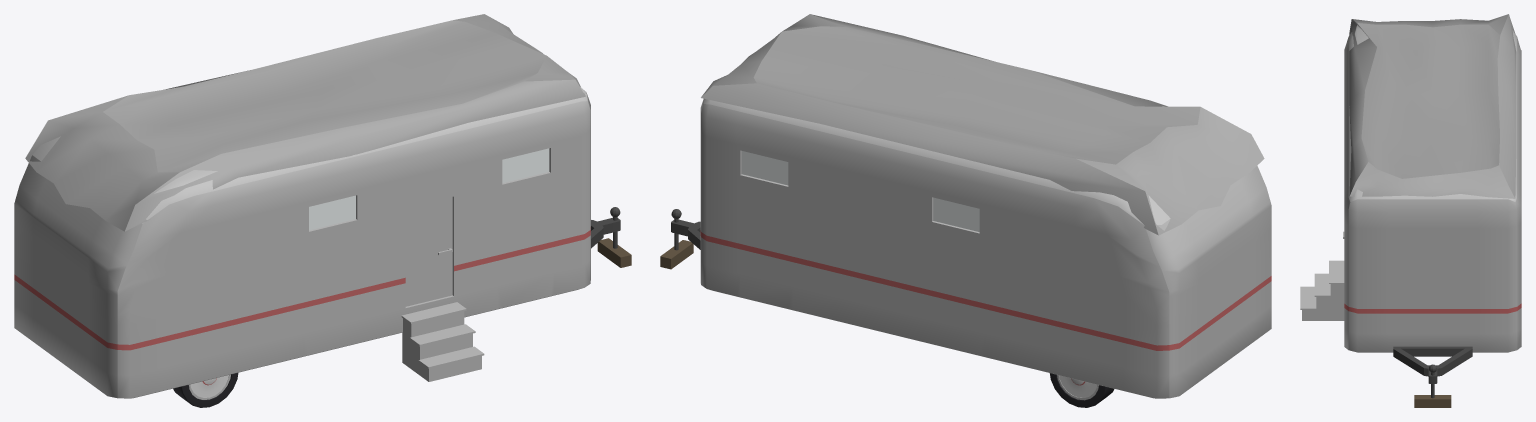
Rendered from trailer.fbx.
The picture shows the model from 3 angles, left to right: view 1: azimuth 30°, elevation 25°; view 2: azimuth 150°, elevation 25°; view 3: azimuth 270°, elevation 25°; orthographic projection. The views are drawn at different scales.
Visible parts, largest first — view 1: pCube1, pCube6, pCube4, pCylinder2, pCube3; view 2: pCube1, pCube6, pCylinder4, pCube3, pCube2; view 3: pCube1, pCube6, pCube4, pCube2, pCube3.
Boxes of the visible parts, left/top/right/bottom form: pCube1: left=14, top=87, right=590, bottom=398; pCube6: left=25, top=14, right=585, bottom=231; pCube4: left=401, top=302, right=484, bottom=381; pCylinder2: left=173, top=373, right=238, bottom=407; pCube3: left=597, top=238, right=631, bottom=267; pCube1: left=700, top=98, right=1271, bottom=398; pCube6: left=701, top=14, right=1264, bottom=235; pCylinder4: left=1049, top=373, right=1114, bottom=407; pCube3: left=660, top=240, right=693, bottom=269; pCube2: left=671, top=219, right=700, bottom=249; pCube1: left=1344, top=25, right=1521, bottom=352; pCube6: left=1349, top=14, right=1516, bottom=198; pCube4: left=1300, top=260, right=1344, bottom=320; pCube2: left=1393, top=346, right=1472, bottom=383; pCube3: left=1414, top=395, right=1451, bottom=407.
Size of the model in its own units: 19.13 by 7.88 by 8.1.
